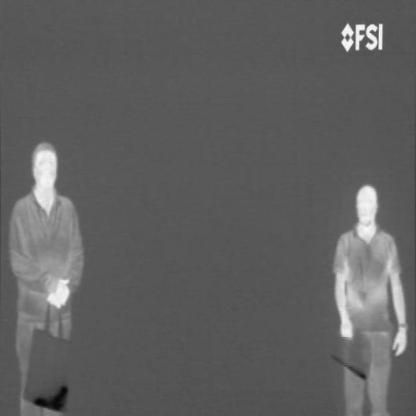weapon: (32, 382, 69, 414)
